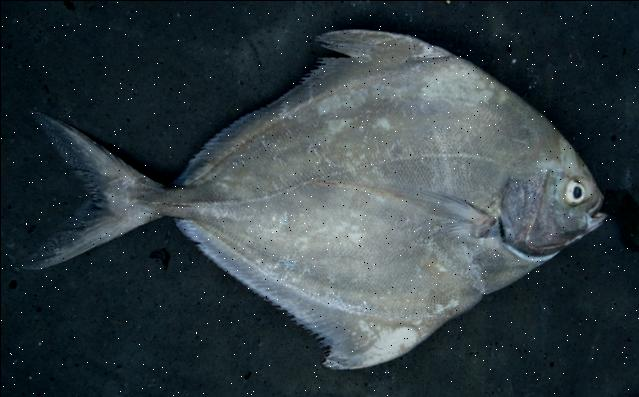Mulut: (562, 172, 624, 244)
Sirip Anal: (167, 210, 308, 324)
Sirip Dada: (290, 163, 514, 251)
Sirip Ekor: (14, 101, 172, 306)
Sirip Perut: (308, 300, 438, 384)
Sirip Punggung: (166, 19, 446, 195)
